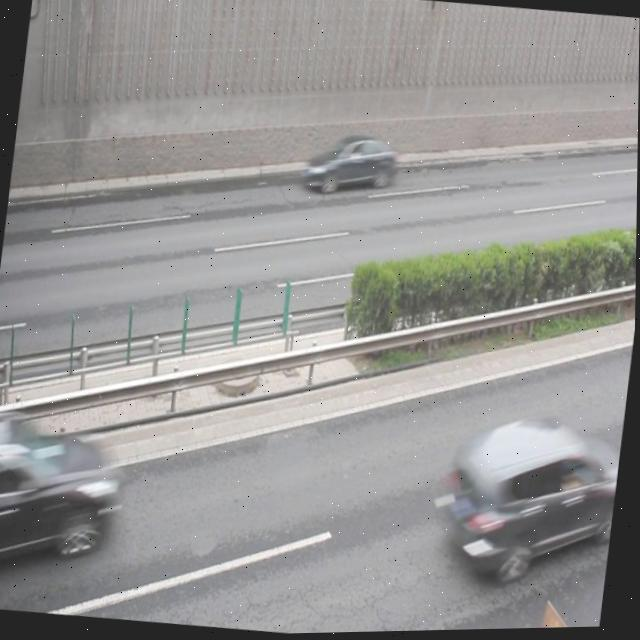car: (441, 408, 625, 590), (0, 409, 125, 592), (301, 130, 399, 198)
